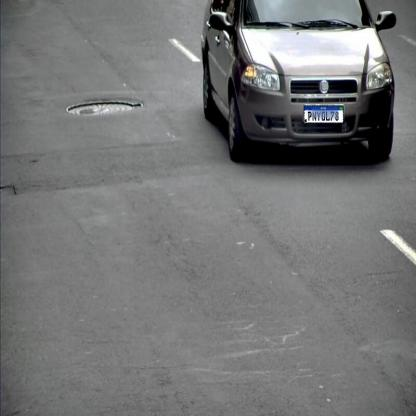PlacaM: (303, 106, 344, 124)
